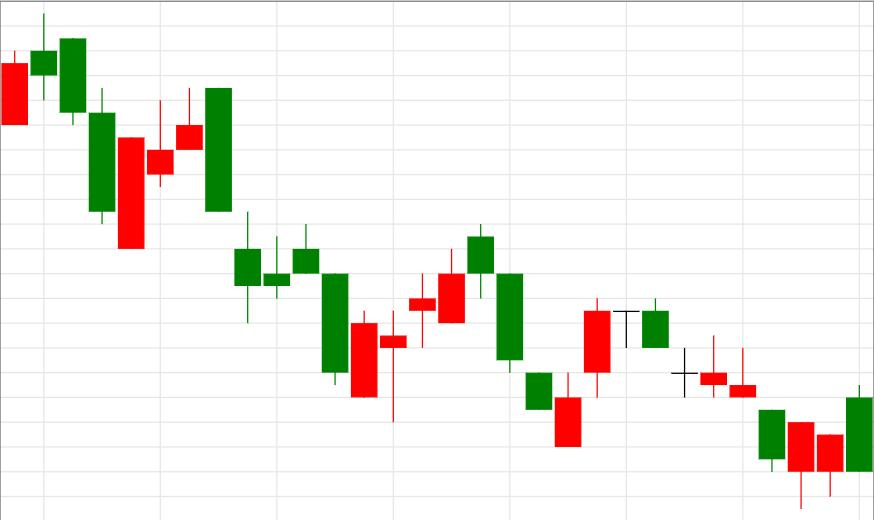three_black_crows_fall: (351, 225, 552, 422)
